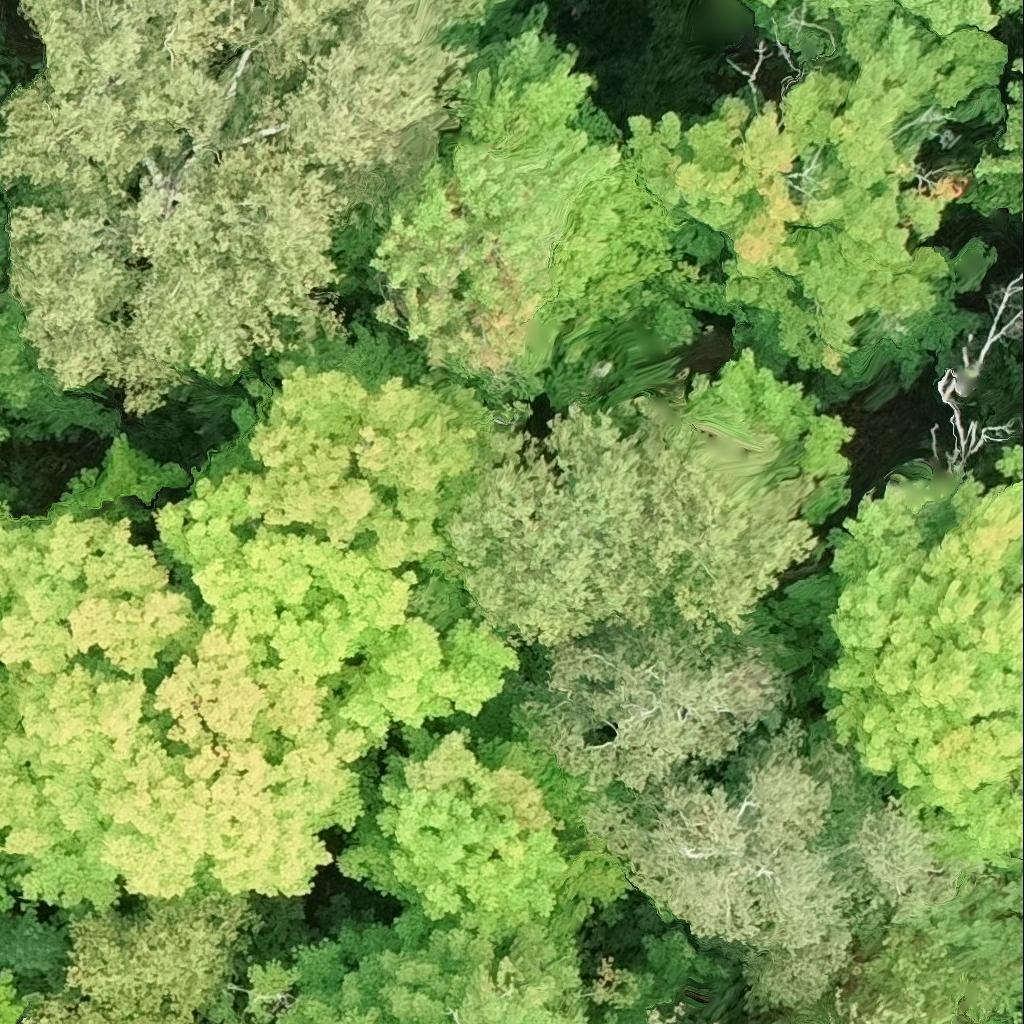crown: (0, 318, 529, 911), (0, 0, 488, 414), (367, 6, 739, 397), (636, 20, 1009, 376), (593, 721, 964, 1014), (452, 406, 822, 649), (828, 445, 1023, 867), (340, 724, 635, 957), (508, 622, 790, 796), (233, 911, 615, 1023), (62, 892, 262, 1018), (805, 0, 1003, 46), (24, 987, 201, 1023), (0, 971, 26, 1023), (0, 873, 20, 910), (739, 0, 764, 3)
